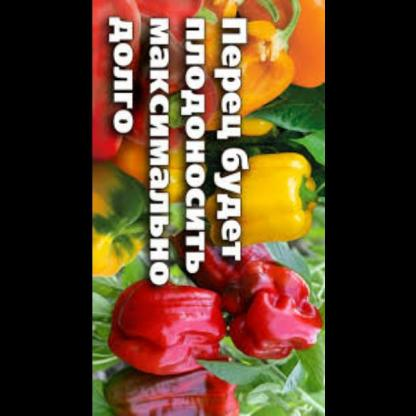bell pepper: (204, 10, 304, 130), (108, 279, 231, 375), (208, 147, 316, 253), (215, 149, 324, 245), (223, 259, 322, 360), (92, 0, 147, 170), (145, 12, 208, 159), (104, 354, 241, 415), (92, 162, 158, 281), (272, 0, 325, 107)
